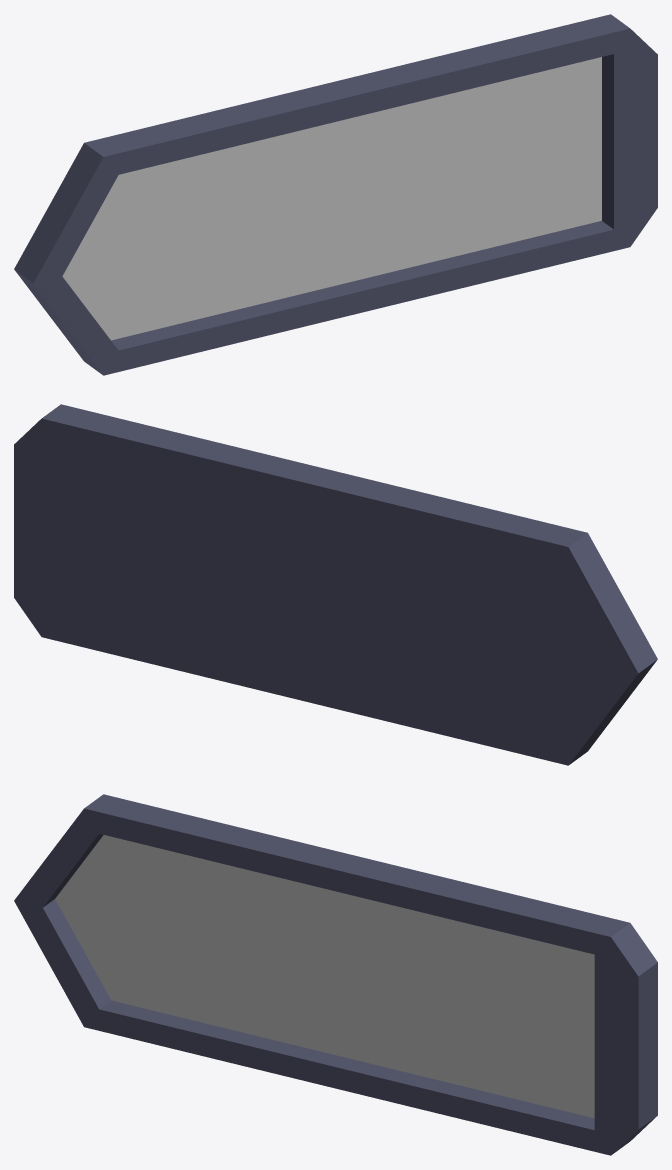
The model's file is Letrero Flecha 1.fbx.
3 renders of one model, top to bottom at view 1: azimuth 30°, elevation 25°; view 2: azimuth 150°, elevation 25°; view 3: azimuth 330°, elevation 25°, orthographic.
Parts seen in each view (by area): view 1: Letrero_Flecha_1; view 2: Letrero_Flecha_1; view 3: Letrero_Flecha_1.
Part boxes in pixels (x1,y1,x2,y2): Letrero_Flecha_1: (14,14,657,375); Letrero_Flecha_1: (14,404,657,765); Letrero_Flecha_1: (14,794,657,1155).
Bounding box in the file's own units: 1.06 × 0.3563 × 0.0575.
